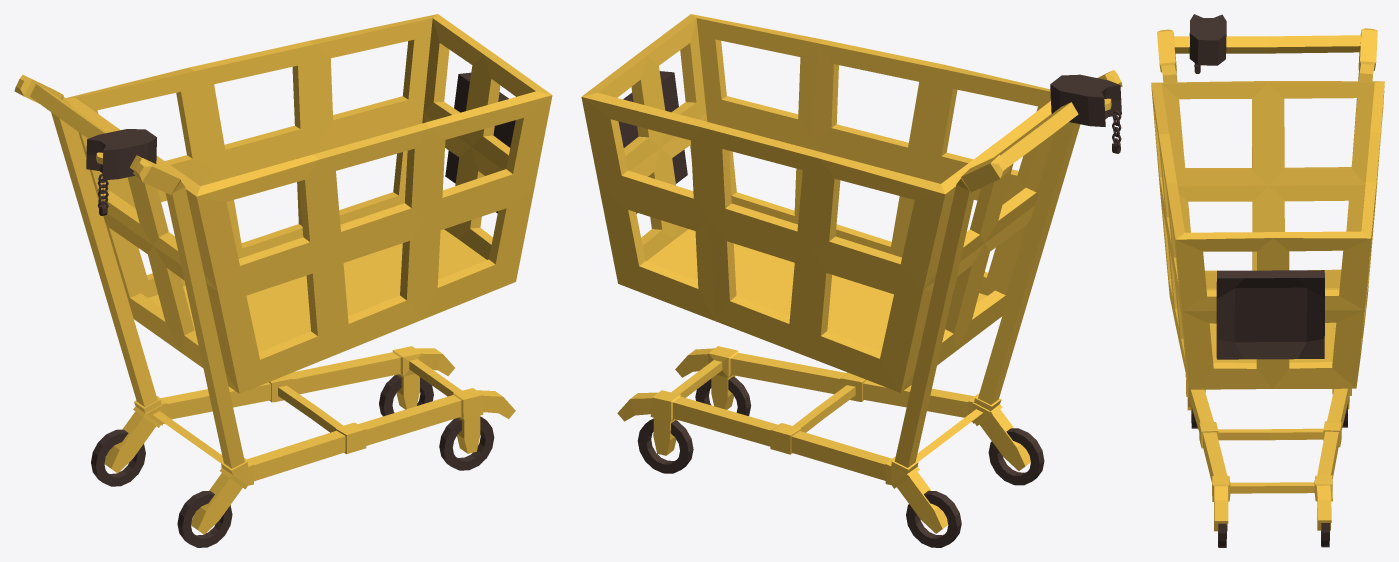
File: cart_yellow.fbx
The picture shows the model from 3 angles, left to right: view 1: azimuth 30°, elevation 25°; view 2: azimuth 150°, elevation 25°; view 3: azimuth 270°, elevation 25°; orthographic projection. The views are drawn at different scales.
Parts seen in each view (by area): view 1: Cart, chain_1; view 2: Cart, chain_1; view 3: Cart, chain_1.
Boxes of the visible parts, left/top/right/bottom form: Cart: left=14, top=14, right=552, bottom=534; chain_1: left=86, top=72, right=515, bottom=547; Cart: left=581, top=14, right=1122, bottom=533; chain_1: left=618, top=71, right=1121, bottom=547; Cart: left=1151, top=28, right=1384, bottom=531; chain_1: left=1189, top=14, right=1347, bottom=547.
Size of the model in its own units: 121 by 109 by 62.35.
1 material, 1 textured.
